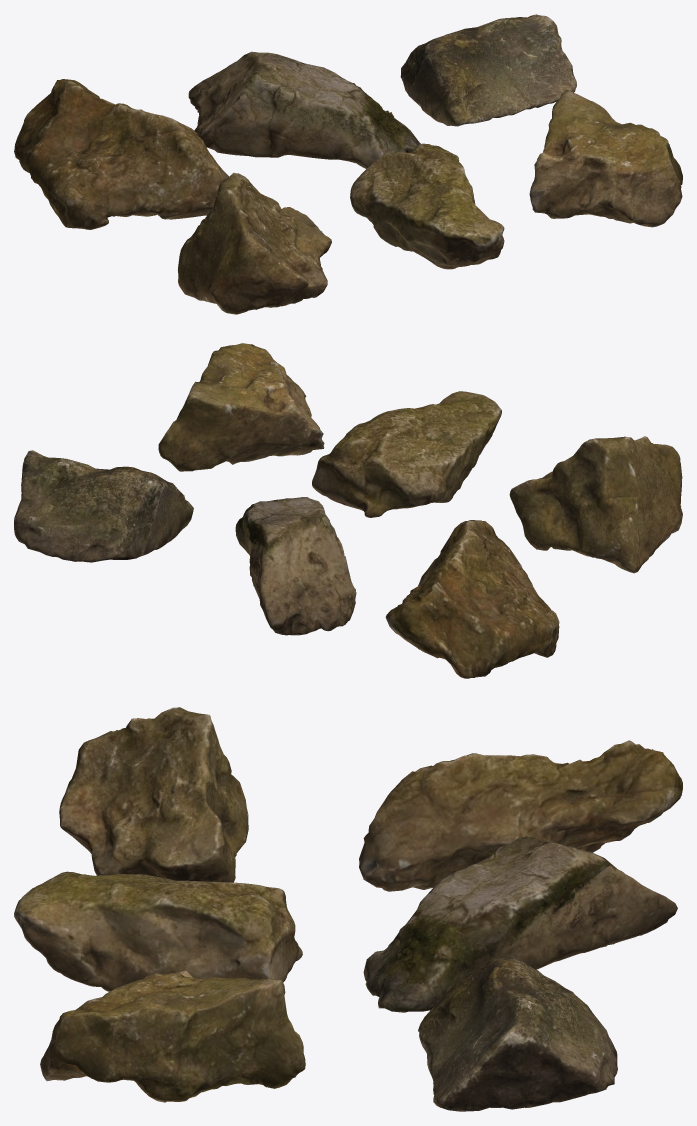
The model's file is rock_moss_set_01.glb.
3 renders of one model, top to bottom at view 1: azimuth 30°, elevation 25°; view 2: azimuth 150°, elevation 25°; view 3: azimuth 270°, elevation 25°, orthographic. The views are drawn at different scales.
Parts seen in each view (by area): view 1: rock_moss_set_01_rock01, rock_moss_set_01_rock02, rock_moss_set_01_rock06, rock_moss_set_01_rock04, rock_moss_set_01_rock03, rock_moss_set_01_rock05; view 2: rock_moss_set_01_rock04, rock_moss_set_01_rock01, rock_moss_set_01_rock05, rock_moss_set_01_rock03, rock_moss_set_01_rock06, rock_moss_set_01_rock02; view 3: rock_moss_set_01_rock01, rock_moss_set_01_rock02, rock_moss_set_01_rock05, rock_moss_set_01_rock04, rock_moss_set_01_rock06, rock_moss_set_01_rock03.
Boxes of the visible parts, x1,y1,x2,y2 form: rock_moss_set_01_rock01: (14, 79, 228, 229); rock_moss_set_01_rock02: (188, 51, 420, 168); rock_moss_set_01_rock06: (529, 90, 682, 227); rock_moss_set_01_rock04: (178, 172, 331, 314); rock_moss_set_01_rock03: (400, 14, 576, 126); rock_moss_set_01_rock05: (350, 143, 504, 269); rock_moss_set_01_rock04: (509, 436, 682, 573); rock_moss_set_01_rock01: (385, 520, 559, 678); rock_moss_set_01_rock05: (312, 391, 501, 517); rock_moss_set_01_rock03: (14, 450, 193, 562); rock_moss_set_01_rock06: (158, 343, 324, 471); rock_moss_set_01_rock02: (235, 497, 356, 635); rock_moss_set_01_rock01: (359, 740, 682, 891); rock_moss_set_01_rock02: (363, 836, 677, 1012); rock_moss_set_01_rock05: (14, 871, 302, 991); rock_moss_set_01_rock04: (59, 707, 248, 882); rock_moss_set_01_rock06: (40, 970, 305, 1102); rock_moss_set_01_rock03: (418, 956, 617, 1111).
Bounding box in the file's own units: 8 × 1.77 × 6.94.
Materials: 1 (1 with a texture image).
